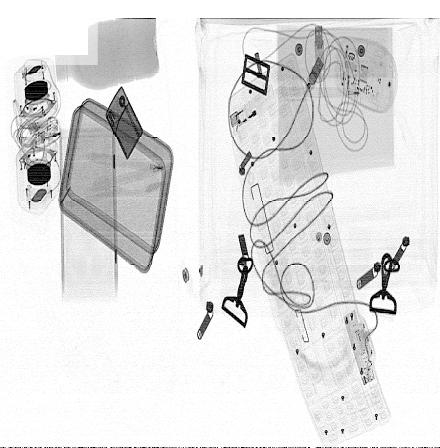Lighter: (105, 86, 143, 161), (230, 84, 277, 137)
